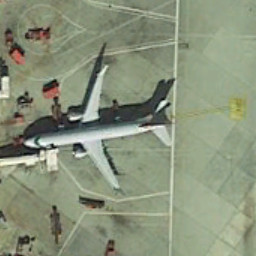Airplane: (8, 55, 191, 201)
